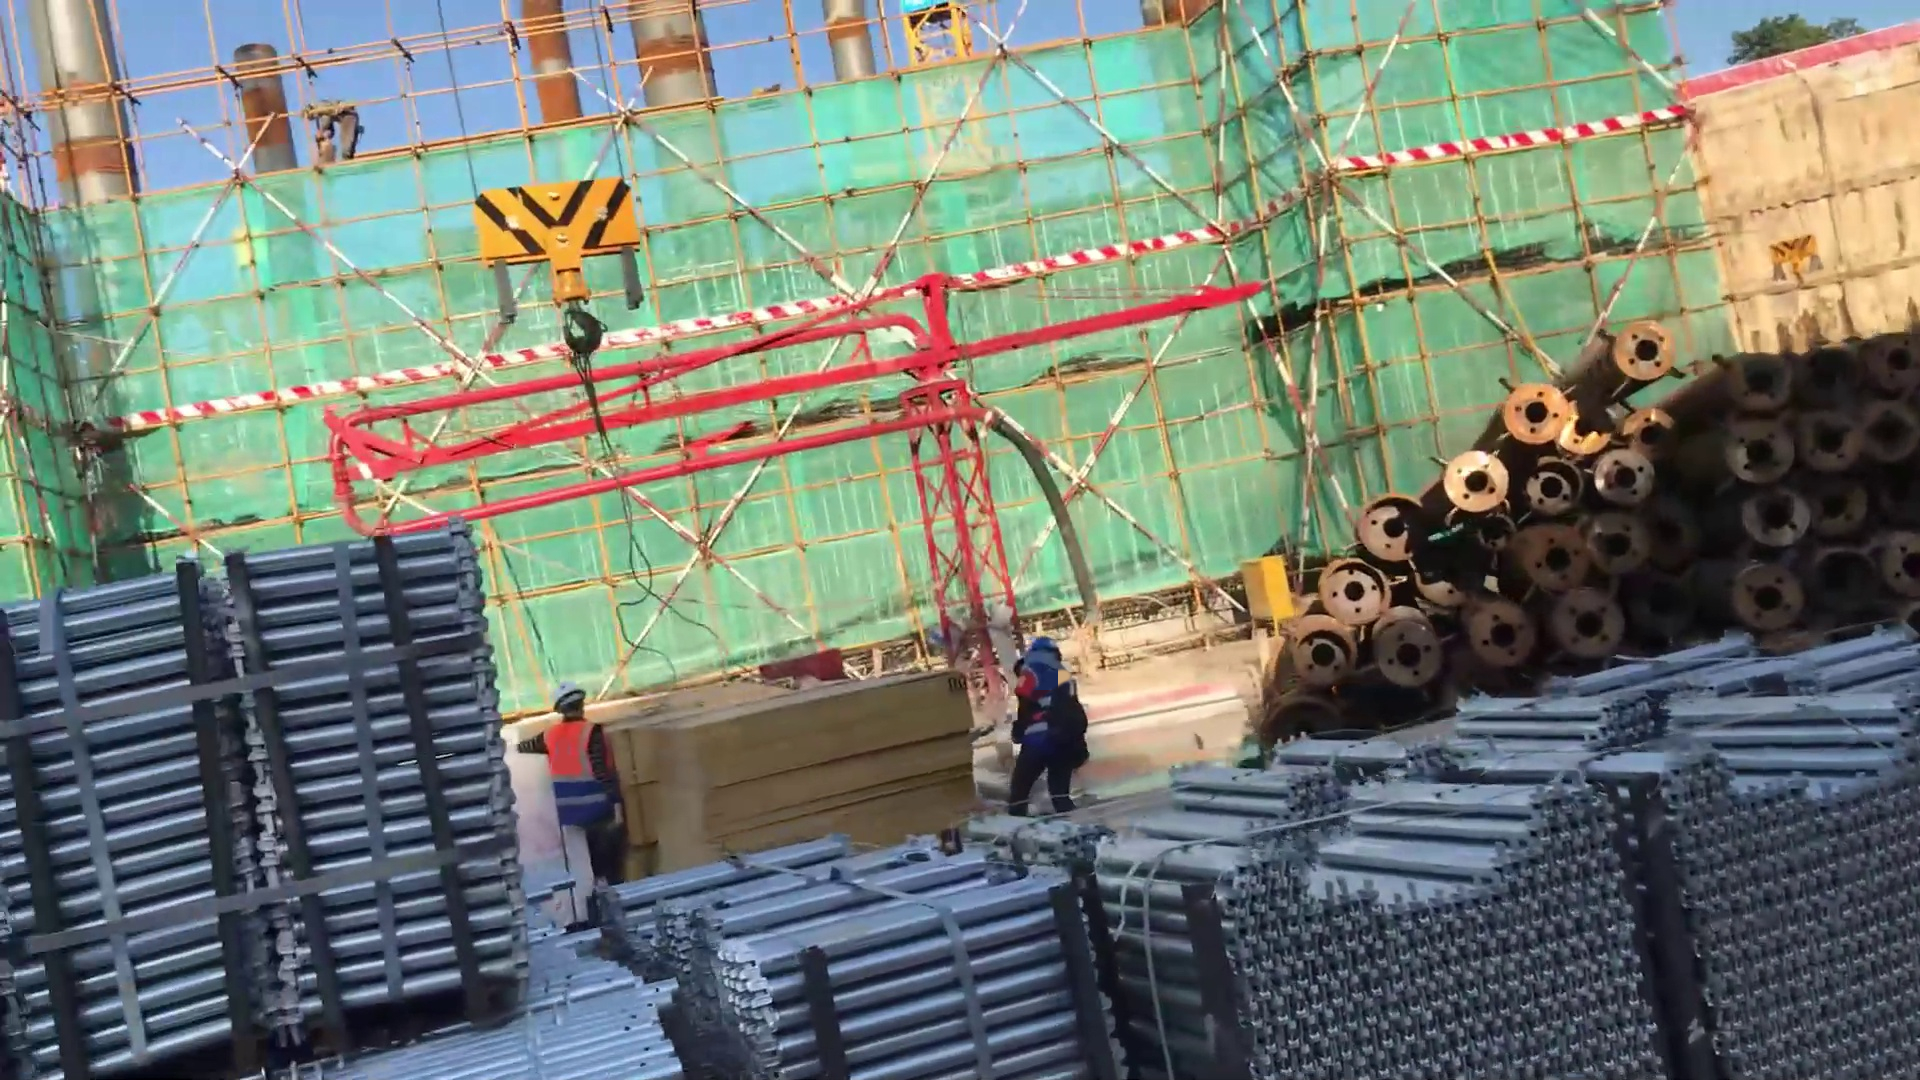board: (611, 655, 977, 877)
ebox: (1234, 545, 1290, 648)
helmet: (544, 672, 602, 734), (1019, 637, 1069, 686)
hook: (467, 160, 661, 410)
person: (508, 687, 645, 908), (988, 632, 1103, 834), (295, 86, 373, 175)
scaffold: (1, 517, 520, 1080), (1430, 630, 1920, 1077), (1068, 763, 1669, 1080), (595, 823, 1119, 1080)
vest: (541, 721, 621, 831), (1010, 661, 1074, 769)
